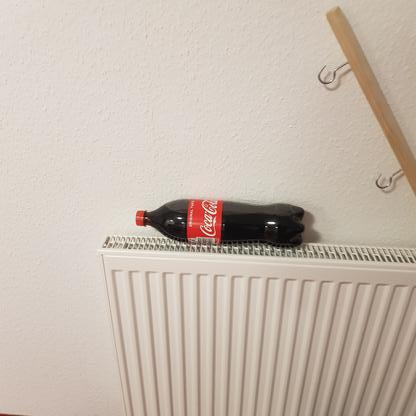coca-cola: (133, 199, 308, 250)
